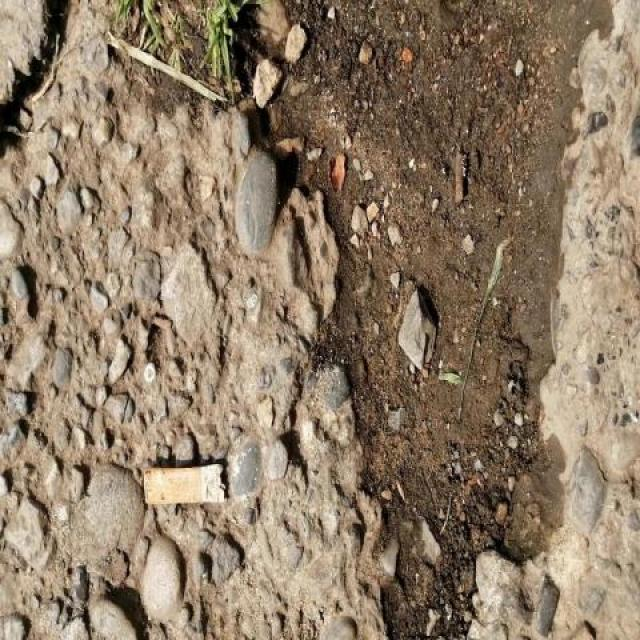non-organic waste: (139, 456, 233, 516)
